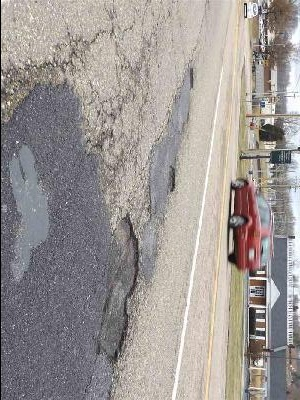pothole: (94, 211, 140, 366), (166, 163, 178, 192), (187, 64, 196, 89)
